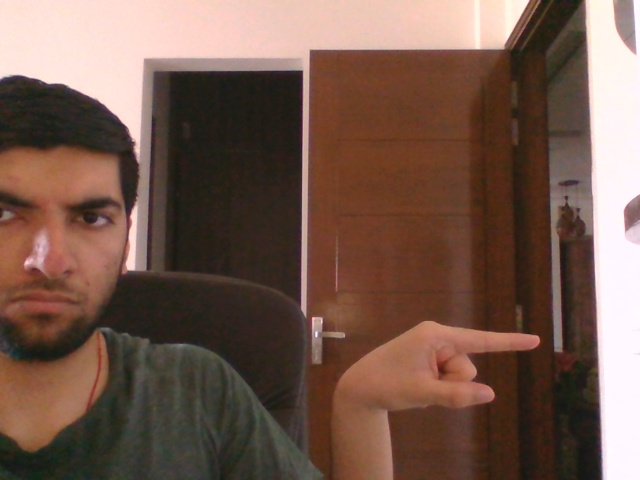LetterG: (330, 320, 541, 411)
